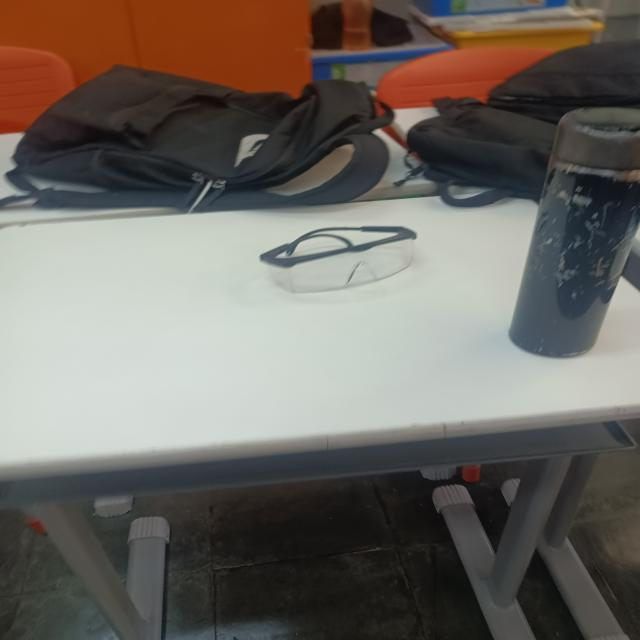oculos-epi: (260, 226, 417, 293)
